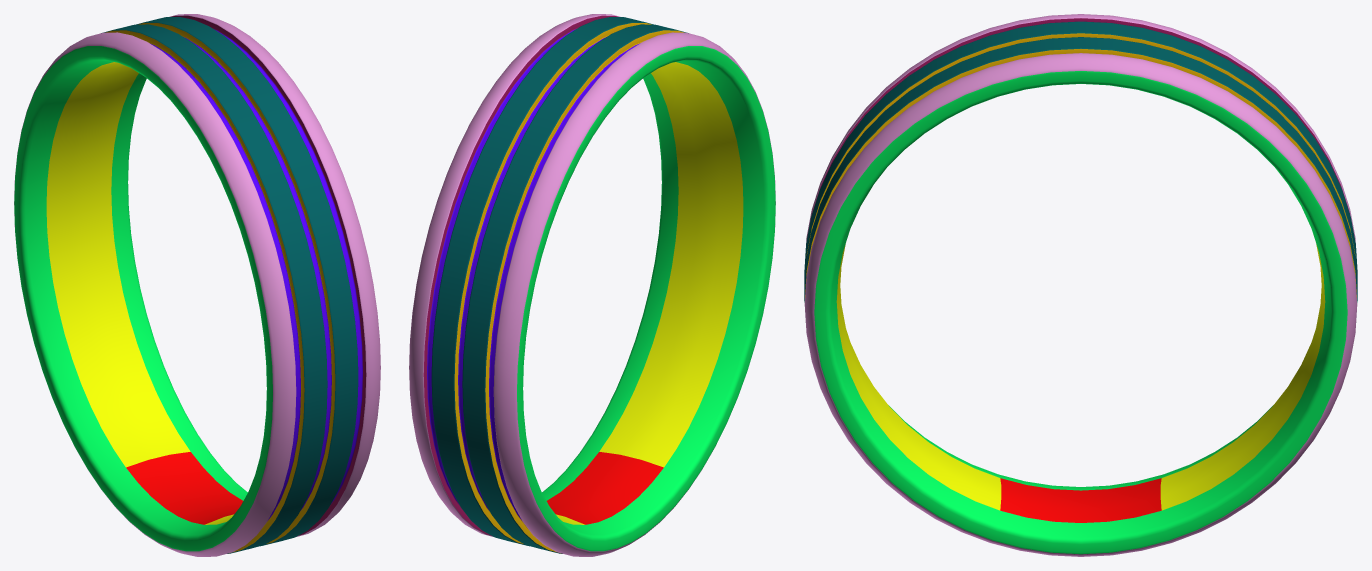
3 views of the same model, side by side, from view 1: azimuth 30°, elevation 25°; view 2: azimuth 150°, elevation 25°; view 3: azimuth 270°, elevation 25° (orthographic). The views are drawn at different scales.
Visible parts, largest first — view 1: IN1170; view 2: IN1170; view 3: IN1170.
Boxes of the visible parts, bbox=[...] form: IN1170: bbox=[14, 14, 380, 556]; IN1170: bbox=[409, 14, 775, 556]; IN1170: bbox=[804, 14, 1357, 556].
Size of the model in its own units: 0.005 by 0.0215 by 0.0215.
